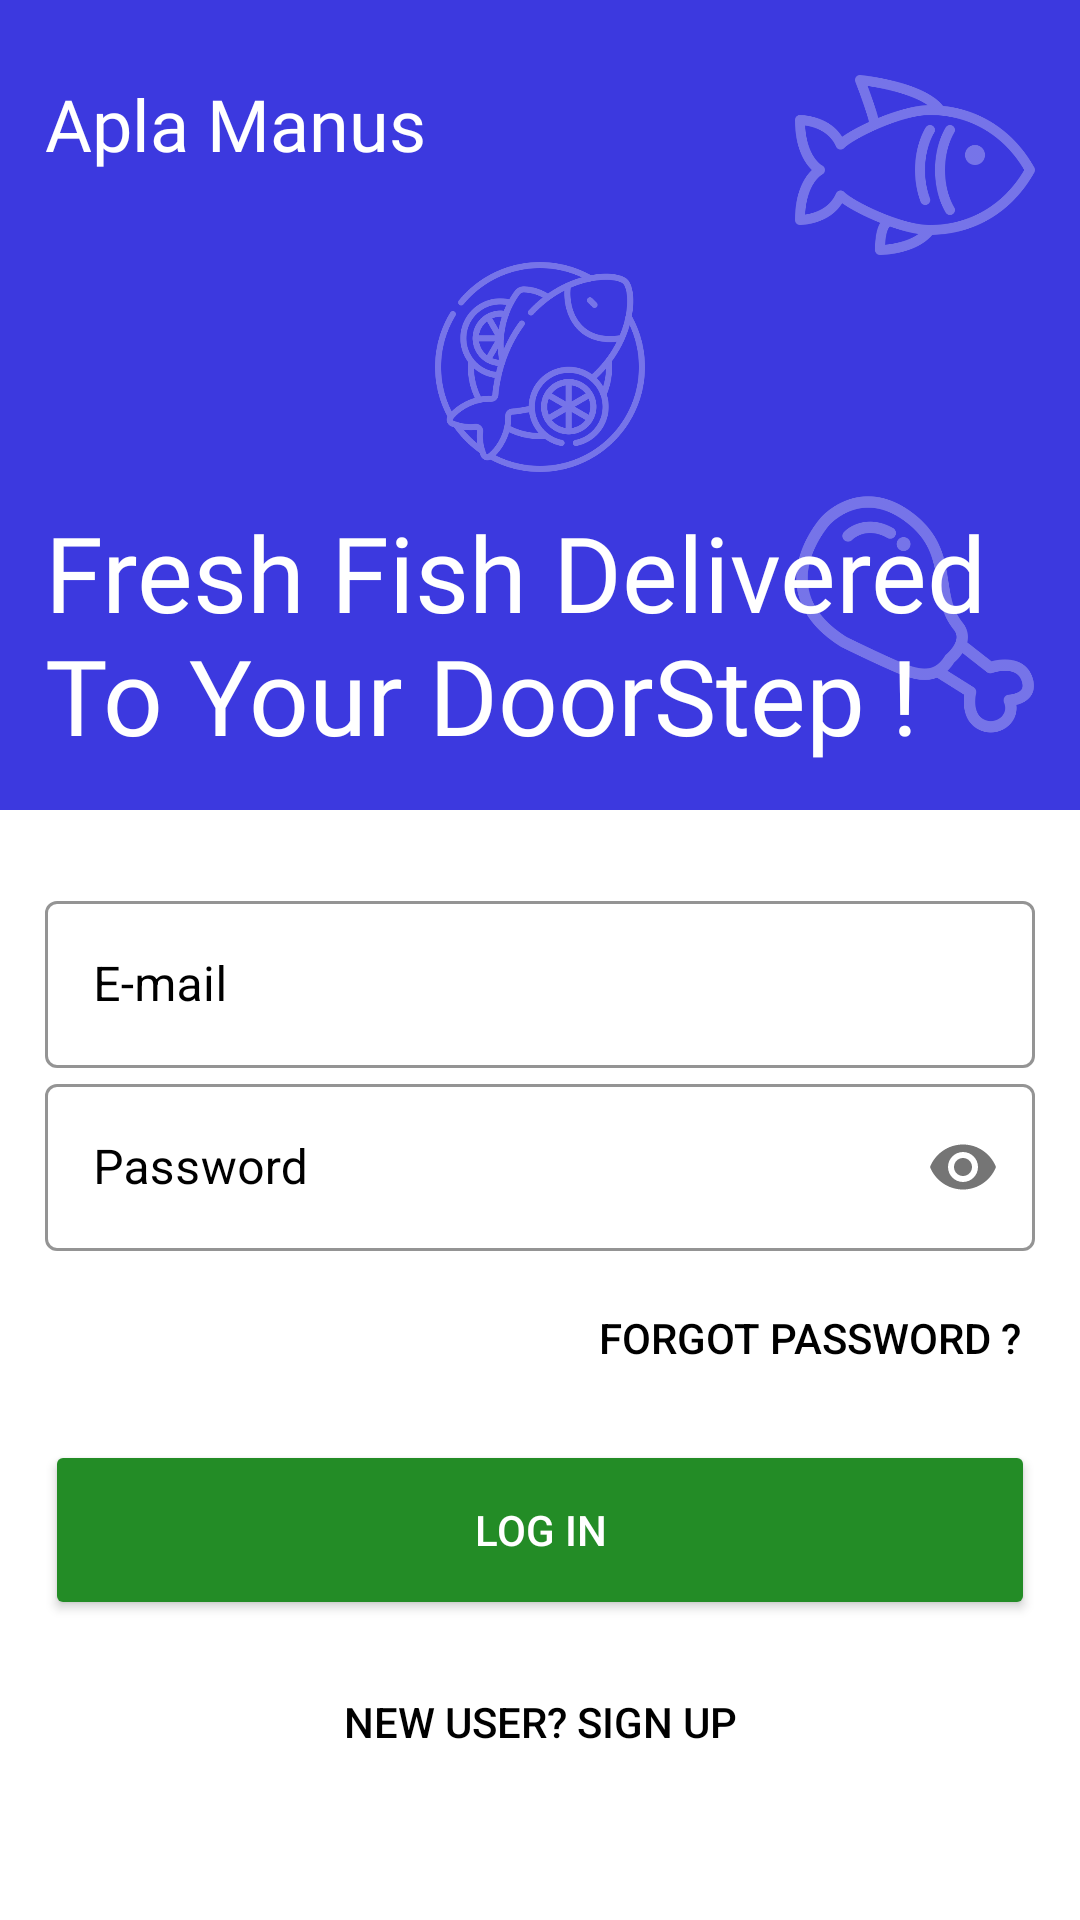

Where to tap for icons on this 1080px x 1920px app screen, as [x,y]:
loginfish: [915,165], [540,367]
